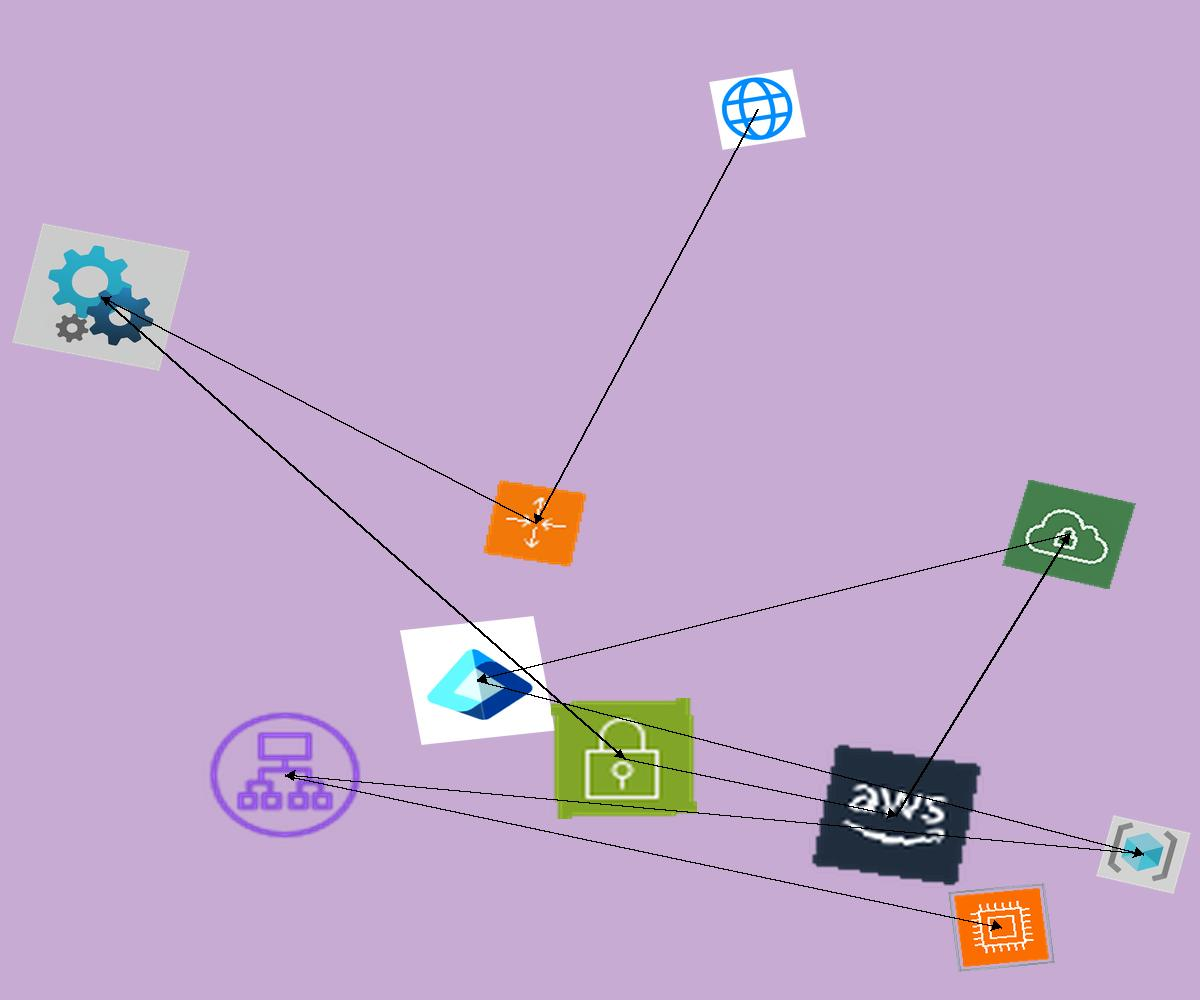AWS-Category_Compute: (948, 883, 1055, 972)
AWS-Cloud-logo: (809, 742, 984, 888)
AWS-Private_vpc: (1002, 479, 1136, 590)
AWS-Public-subnet: (551, 698, 697, 819)
AWS-Res_Elastic-Load-Balancing_Application-Load-Balancer: (200, 704, 370, 846)
AWS-Scaling-group: (482, 479, 588, 568)
Azure_api: (12, 223, 190, 371)
Azure_http: (709, 69, 806, 150)
Azure_microsoft_entra: (400, 616, 555, 745)
Azure_resource_group: (1096, 815, 1191, 894)
